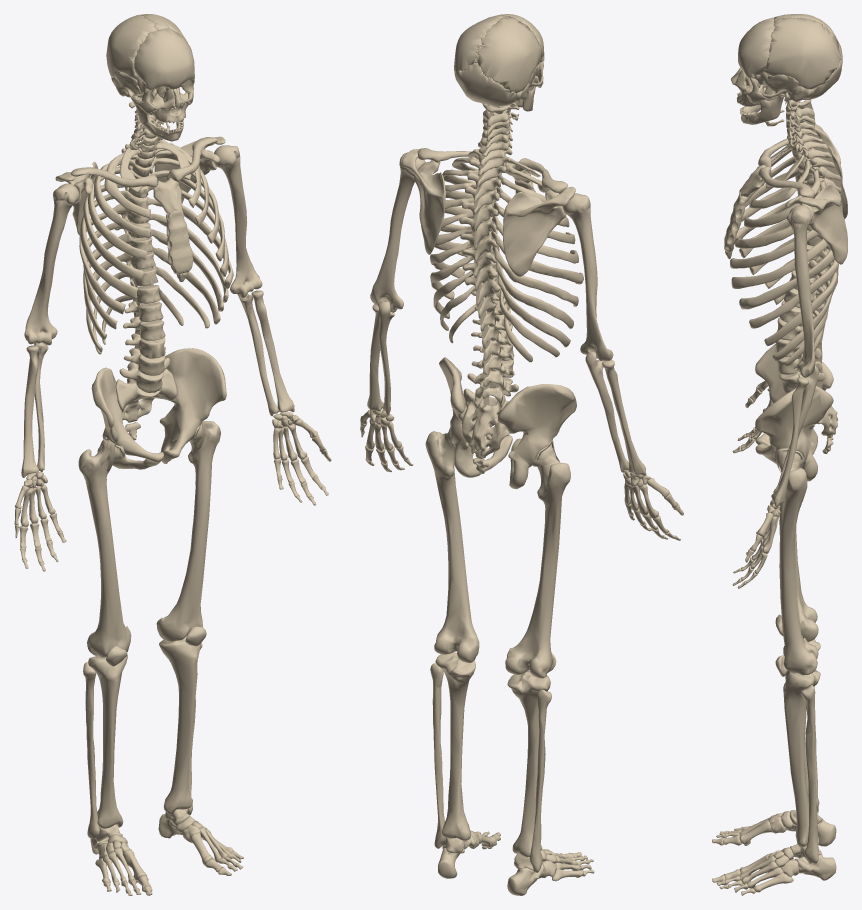
File: skeleton.glb
3 views of the same model, side by side, from view 1: azimuth 30°, elevation 25°; view 2: azimuth 150°, elevation 25°; view 3: azimuth 270°, elevation 25° (orthographic). The views are drawn at different scales.
Parts seen in each view (by area): view 1: HOMO_Anatomy; view 2: HOMO_Anatomy; view 3: HOMO_Anatomy.
Boxes of the visible parts, box(x1,y1,x2,y2) form: HOMO_Anatomy: box(14, 14, 331, 895); HOMO_Anatomy: box(360, 14, 683, 895); HOMO_Anatomy: box(712, 14, 847, 895).
Bounding box in the file's own units: 0.6694 × 1.7 × 0.2473.
